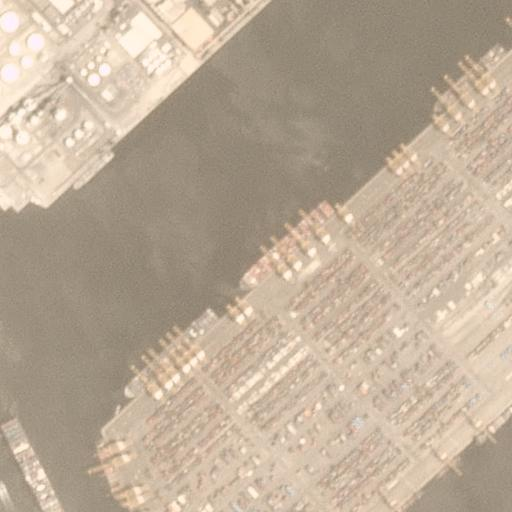ship: (239, 202, 335, 292), (126, 310, 218, 396), (431, 42, 509, 114), (72, 150, 114, 192), (0, 148, 12, 208)
